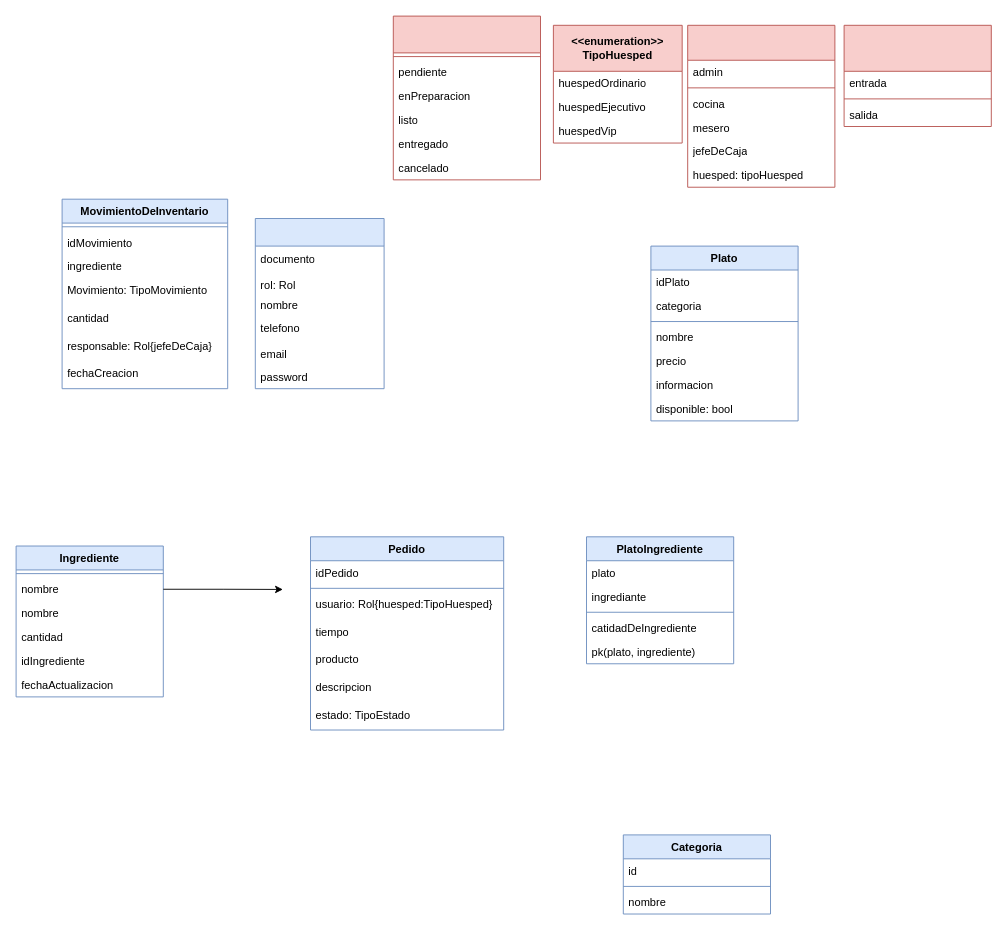
Some shapes in this 1007 by 933 pixel diagram are drawn without their labels. The box of each missing label's shape, as (x1, y1, x2, y2) in pixels:
<<enumaration>> Rol: (687, 24, 835, 187)
<<enumaration>> TipoEstado: (392, 15, 540, 180)
<<enumeration>> TipoMovimiento: (843, 24, 991, 126)
Usuario: (254, 218, 384, 389)
